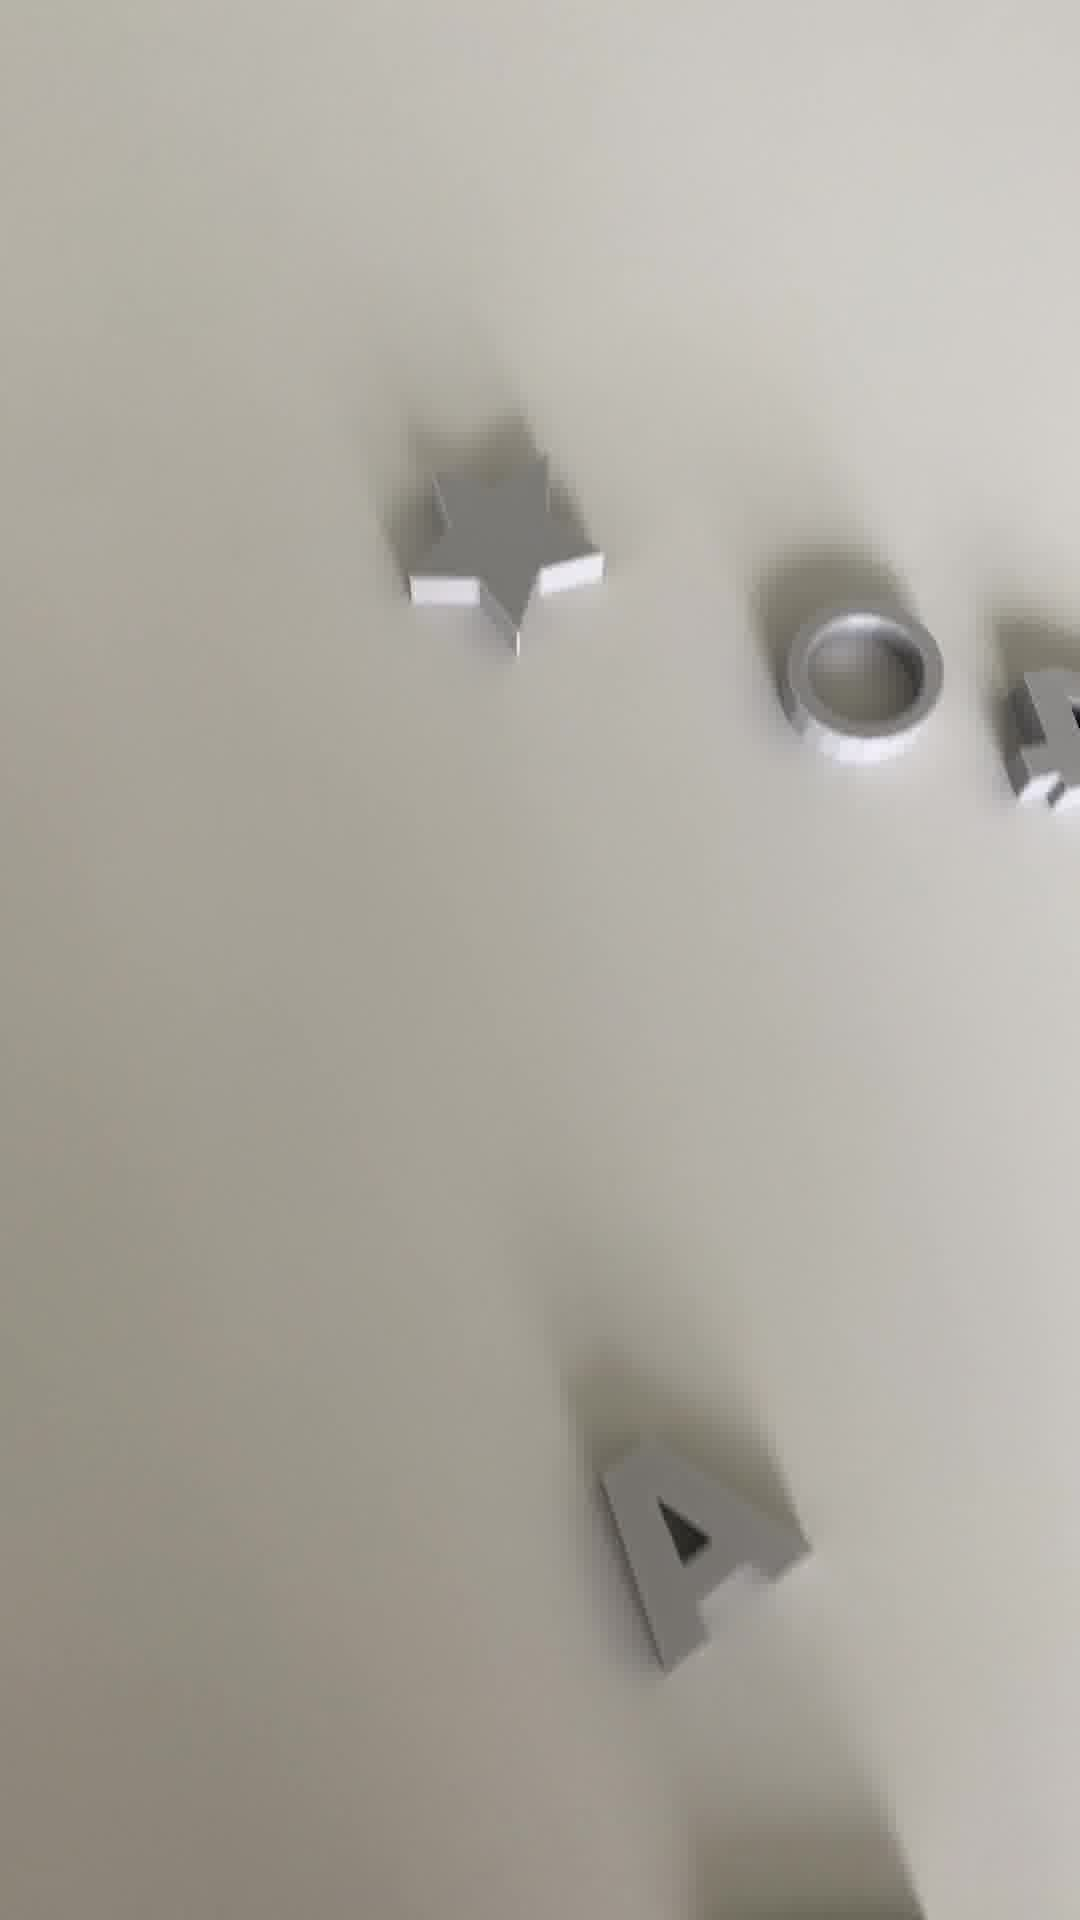Gray A-letter: (596, 1432, 806, 1663)
Gray four: (996, 665, 1080, 832)
Gray ring: (785, 597, 938, 761)
Gray star: (407, 450, 600, 663)
